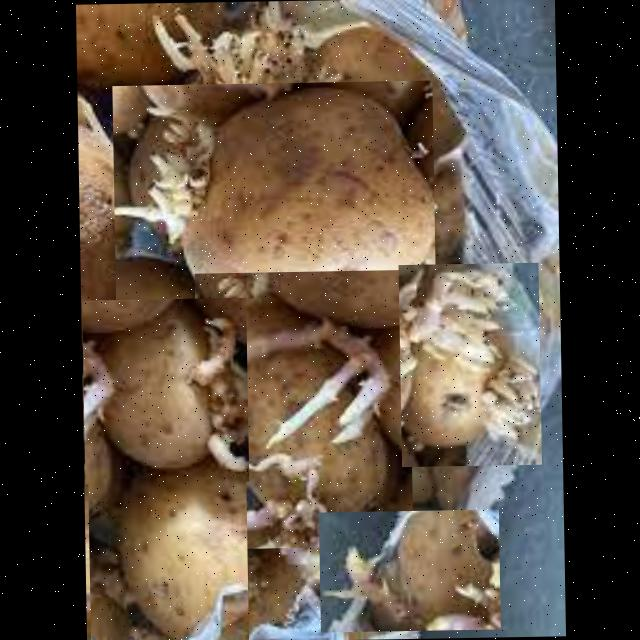Sprouted potato: (111, 80, 435, 338), (193, 270, 412, 550), (80, 297, 248, 484), (397, 263, 541, 467), (86, 458, 247, 640), (318, 508, 500, 632)
